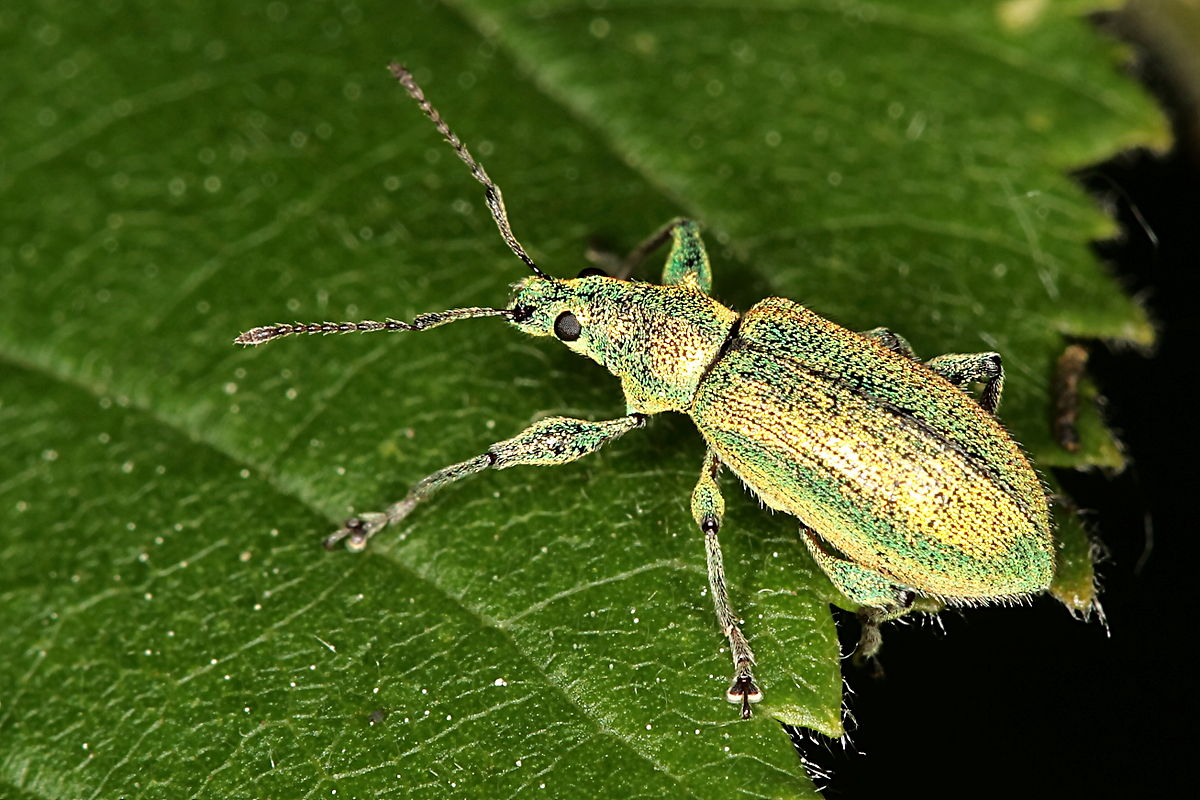dolgonosik: (237, 54, 1069, 714)
